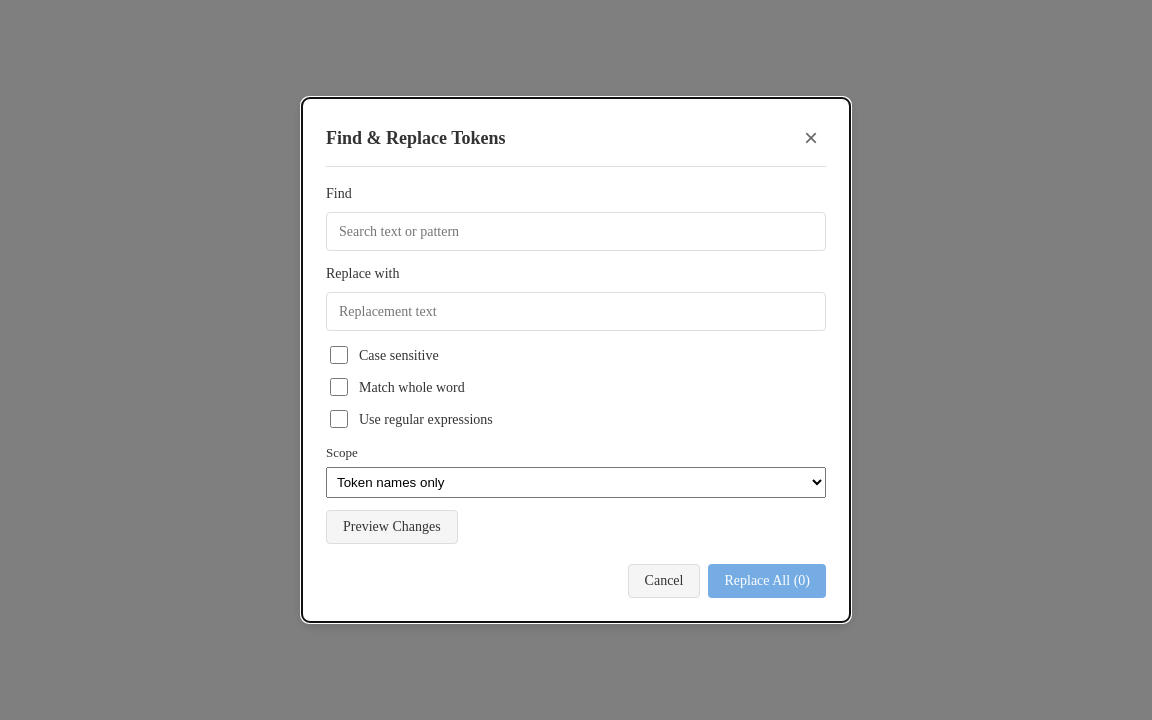
Scenario: FindReplace › Preview Functionality › shows preview when clicked
Type "primary" into the field with placeholder "Search text or pattern". click: (576, 232)
box: [326,212,826,251]
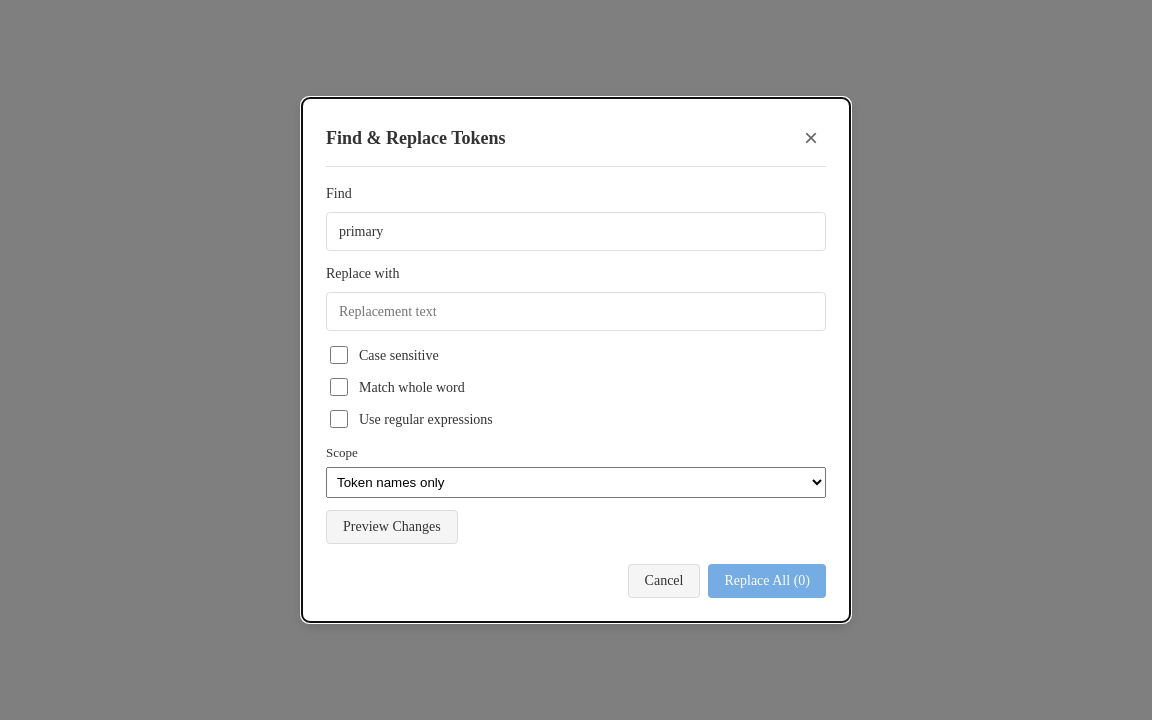
Click the button "Preview Changes". click: (392, 527)
box: [326,510,458,544]
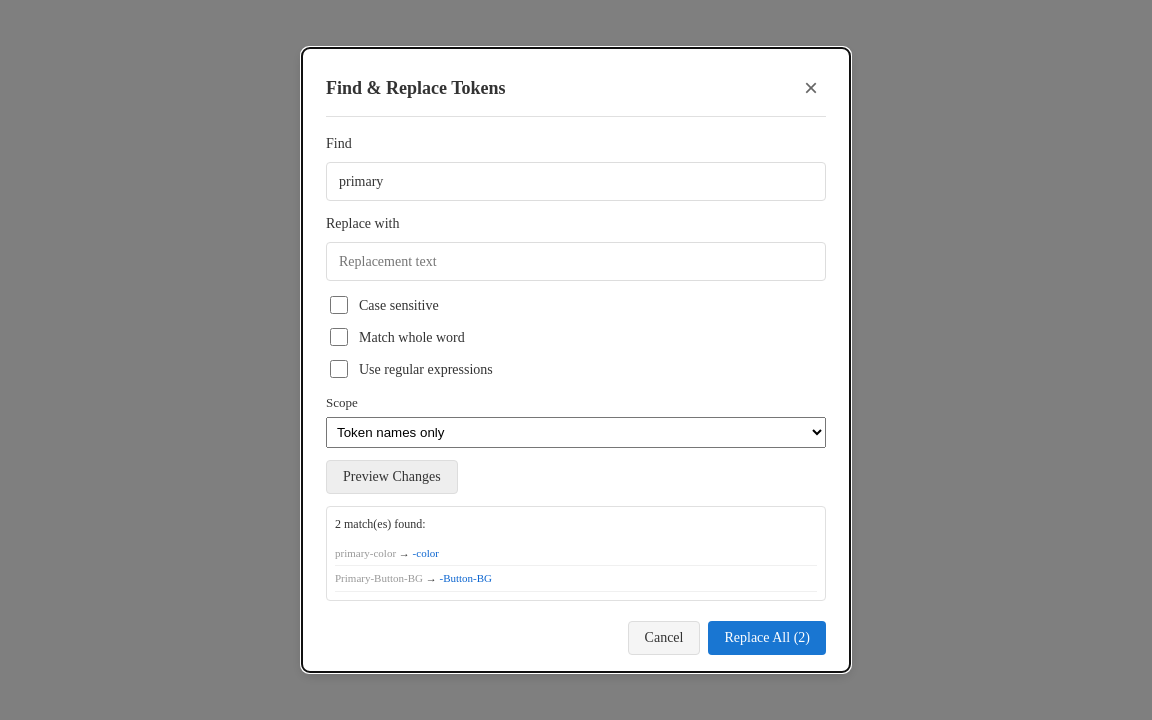
Check: the text "2 match(es) found:" is shown, box [335,516,426,530]
